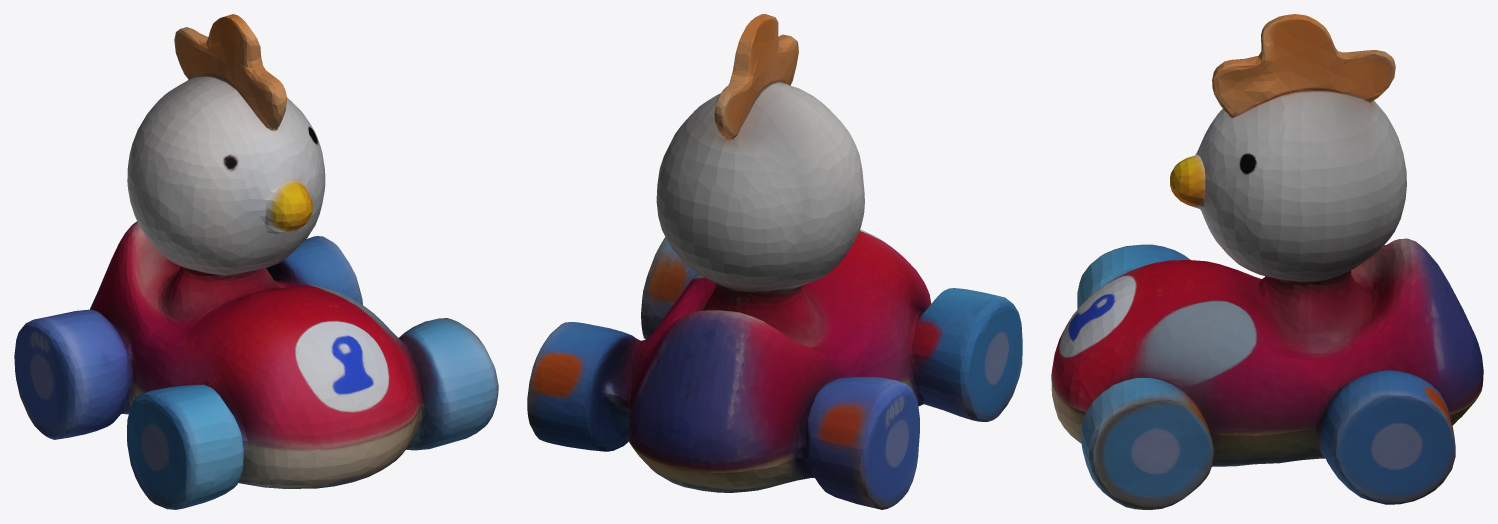
The model's file is animalcarFour.glb.
The picture shows the model from 3 angles, left to right: view 1: azimuth 30°, elevation 25°; view 2: azimuth 150°, elevation 25°; view 3: azimuth 270°, elevation 25°; orthographic projection. The views are drawn at different scales.
Parts seen in each view (by area): view 1: world; view 2: world; view 3: world.
Boxes of the visible parts, left/top/right/bottom form: world: left=14, top=14, right=498, bottom=509; world: left=527, top=14, right=1022, bottom=509; world: left=1051, top=14, right=1483, bottom=509.
Size of the model in its own units: 0.5543 by 0.6459 by 0.6052.
1 material, 1 textured.
